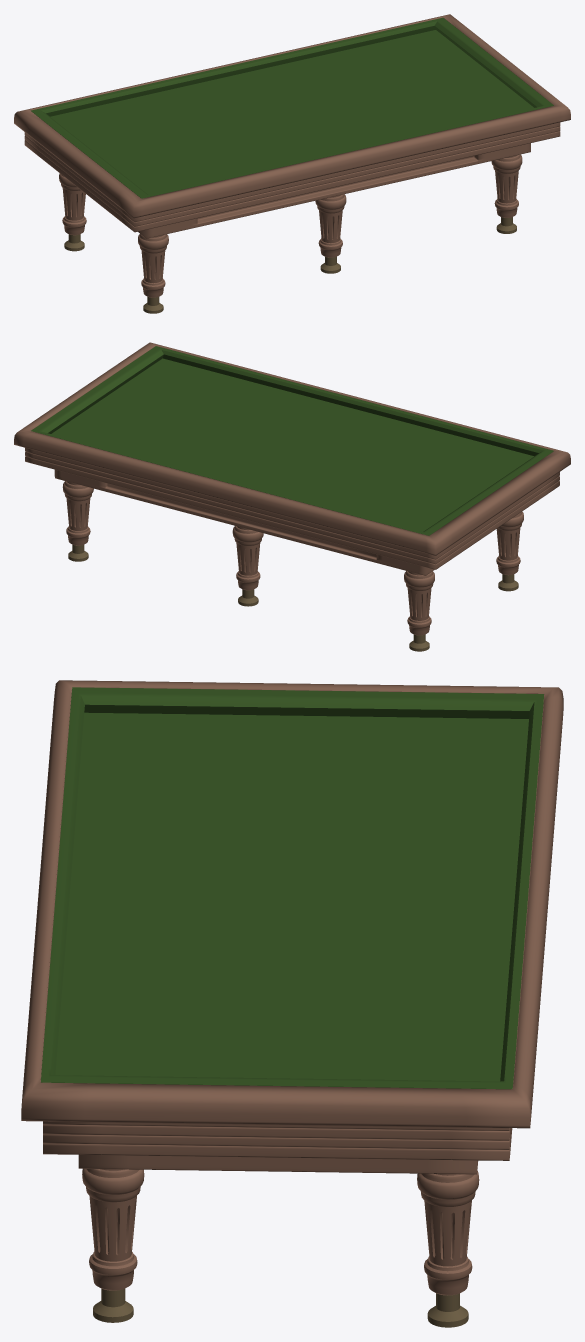
3 views of the same model, one above another, from view 1: azimuth 30°, elevation 25°; view 2: azimuth 150°, elevation 25°; view 3: azimuth 270°, elevation 25° (orthographic). The views are drawn at different scales.
Parts seen in each view (by area): view 1: Default.010; view 2: Default.010; view 3: Default.010.
Part boxes in pixels (x1=…): Default.010: x1=14, y1=14, x2=570, y2=313; Default.010: x1=14, y1=342, x2=570, y2=651; Default.010: x1=21, y1=680, x2=563, y2=1327.
Size of the model in its own units: 159 by 45.37 by 85.61.
